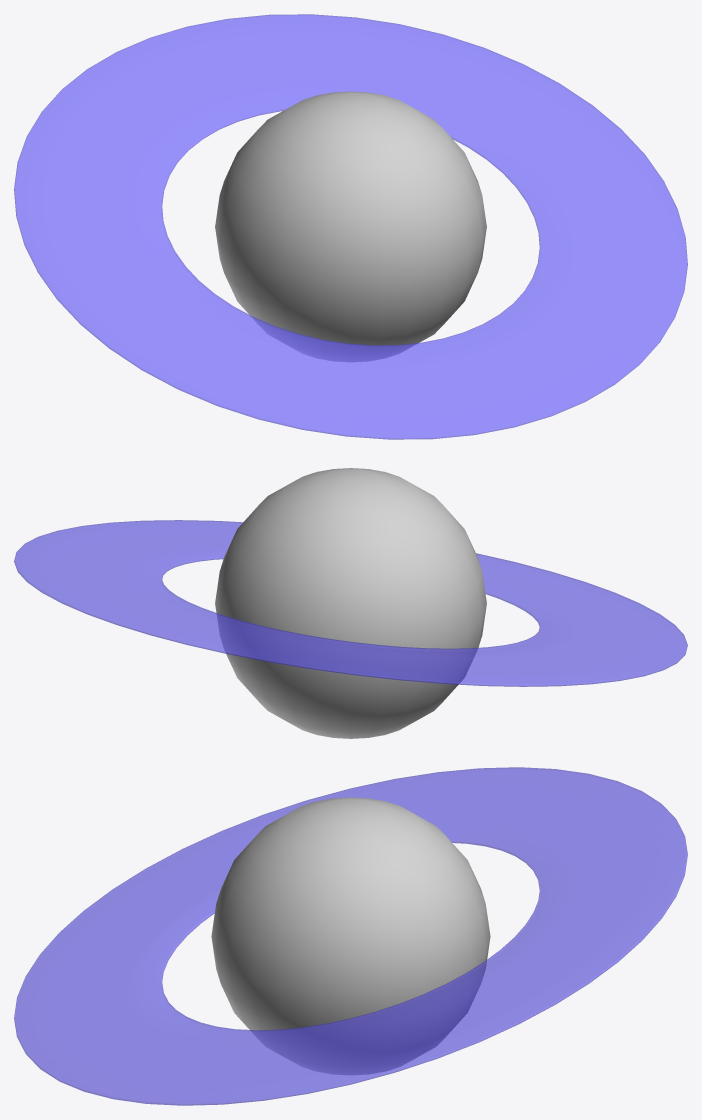
Rendered from LoopDreams_VR_Assets_RX_Planet.fbx.
The picture shows the model from 3 angles, top to bottom: view 1: azimuth 30°, elevation 25°; view 2: azimuth 150°, elevation 25°; view 3: azimuth 270°, elevation 25°; orthographic projection. The views are drawn at different scales.
Visible parts, largest first — view 1: Tube, Sphere; view 2: Sphere, Tube; view 3: Tube, Sphere.
Boxes of the visible parts, box(x1,y1,x2,y2) form: Tube: box(14, 14, 687, 439); Sphere: box(215, 91, 486, 361); Sphere: box(215, 468, 486, 738); Tube: box(14, 520, 687, 686); Tube: box(14, 767, 687, 1105); Sphere: box(211, 797, 490, 1074).
Bounding box in the file's own units: 500 × 200 × 483.
